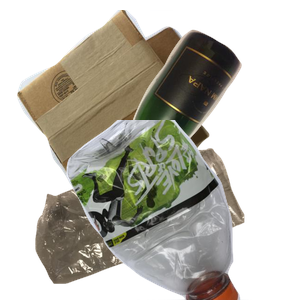cardboard: (14, 10, 222, 190)
glass: (87, 27, 300, 207)
plastic: (64, 120, 300, 300)
trash: (33, 145, 270, 300)
